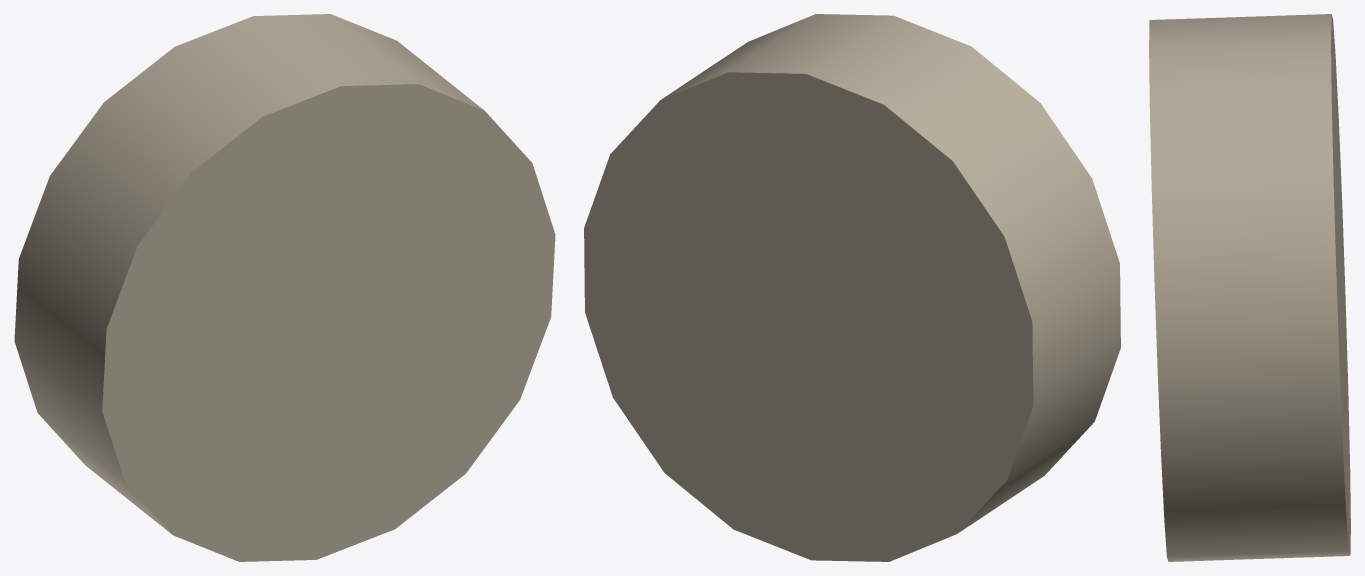
Rendered from original-33.obj.
The picture shows the model from 3 angles, left to right: view 1: azimuth 30°, elevation 25°; view 2: azimuth 150°, elevation 25°; view 3: azimuth 270°, elevation 25°; orthographic projection. The views are drawn at different scales.
Parts seen in each view (by area): view 1: mesh47/mesh47-geometry#mesh47-geometry; view 2: mesh47/mesh47-geometry#mesh47-geometry; view 3: mesh47/mesh47-geometry#mesh47-geometry.
Boxes of the visible parts, x1=… form: mesh47/mesh47-geometry#mesh47-geometry: x1=14, y1=14, x2=555, y2=561; mesh47/mesh47-geometry#mesh47-geometry: x1=584, y1=14, x2=1120, y2=561; mesh47/mesh47-geometry#mesh47-geometry: x1=1149, y1=14, x2=1350, y2=561.
Size of the model in its own units: 0.0209 by 0.0214 by 0.00782.
